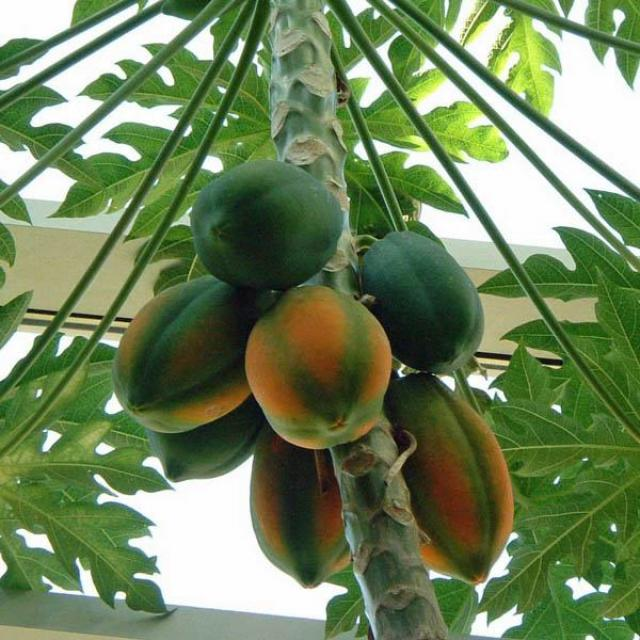Pepaya rippen: (390, 375, 548, 590), (230, 293, 396, 460), (75, 286, 260, 427), (237, 441, 349, 582)
Pepaya unrippen: (188, 146, 354, 280), (354, 219, 481, 368)
